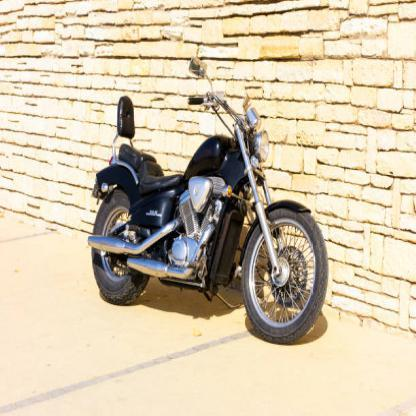Motorcycle: (83, 47, 330, 336)
